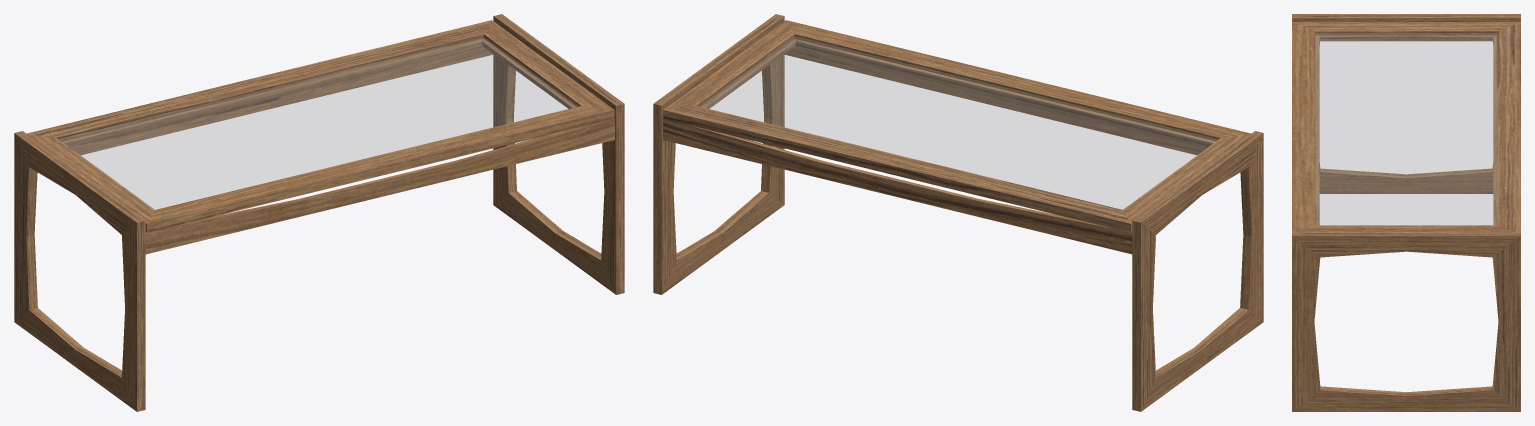
The model's file is coffee_table.glb.
3 renders of one model, left to right at view 1: azimuth 30°, elevation 25°; view 2: azimuth 150°, elevation 25°; view 3: azimuth 270°, elevation 25°, orthographic. The views are drawn at different scales.
Parts seen in each view (by area): view 1: Glass_4, TableTop_0, TableTopSides_1, LegLeft_3, LegRight_2; view 2: Glass_4, TableTop_0, TableTopSides_1, LegLeft_3, LegRight_2; view 3: Glass_4, LegRight_2, TableTop_0, LegLeft_3.
Boxes of the visible parts, x1,y1,x2,y2 form: Glass_4: [60, 36, 578, 209]; TableTop_0: [27, 20, 614, 232]; TableTopSides_1: [69, 46, 614, 254]; LegLeft_3: [14, 131, 145, 411]; LegRight_2: [493, 14, 624, 294]; Glass_4: [699, 36, 1217, 209]; TableTop_0: [663, 20, 1250, 232]; TableTopSides_1: [663, 46, 1208, 254]; LegLeft_3: [1132, 131, 1263, 411]; LegRight_2: [653, 14, 784, 294]; Glass_4: [1316, 33, 1496, 224]; LegRight_2: [1292, 232, 1520, 411]; TableTop_0: [1292, 22, 1520, 231]; LegLeft_3: [1292, 14, 1520, 193].
Size of the model in its own units: 0.8029 by 0.2975 by 0.35.
Materials: 3 (2 with a texture image).
